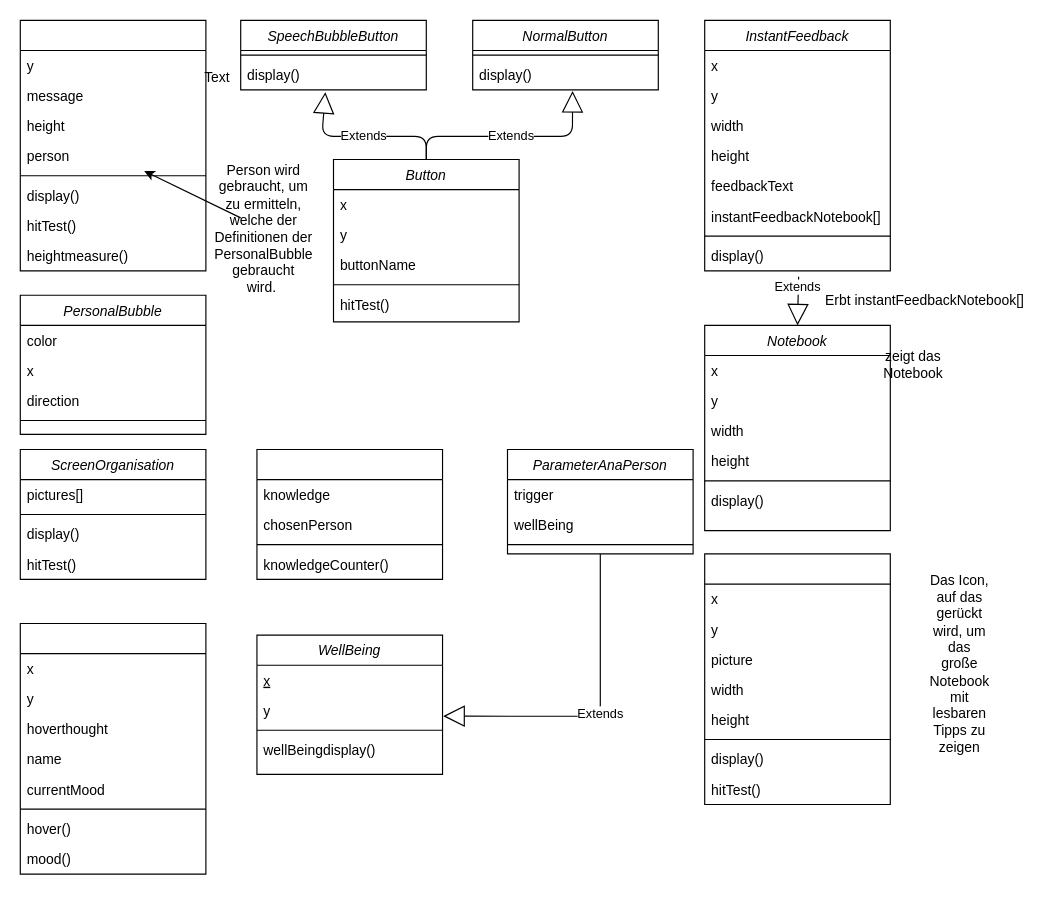
This 1044x898 diagram has some shape labels left out. Here are the shapes that lost their labels. From the top down, the box of each, then its label:
(19, 19, 206, 271): SpeechBubble
(256, 448, 443, 579): User
(704, 553, 890, 804): NotebookIcon
(19, 622, 206, 874): AnaPerson
